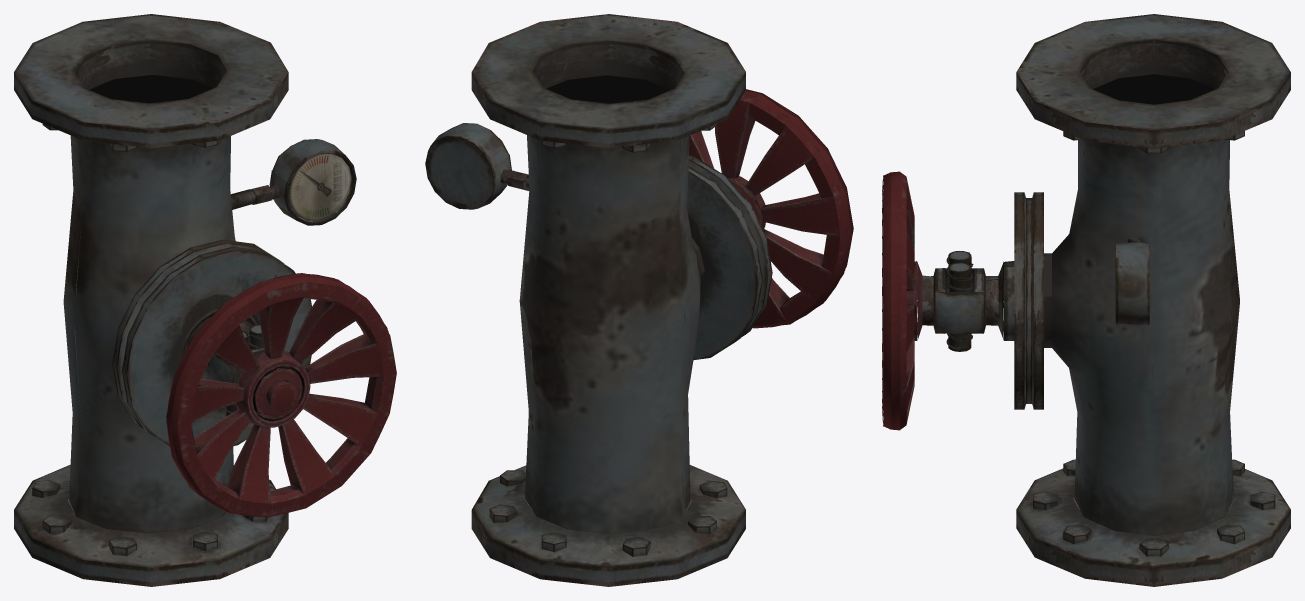
Rendered from pipe08.gltf.
3 renders of one model, left to right at view 1: azimuth 30°, elevation 25°; view 2: azimuth 150°, elevation 25°; view 3: azimuth 270°, elevation 25°, orthographic.
Visible parts, largest first — view 1: pipe08; view 2: pipe08; view 3: pipe08.
Boxes of the visible parts, left/top/right/bottom form: pipe08: left=14, top=14, right=396, bottom=586; pipe08: left=425, top=14, right=853, bottom=586; pipe08: left=882, top=14, right=1290, bottom=586.
Size of the model in its own units: 0.2662 by 0.3788 by 0.3073.
Materials: 1 (1 with a texture image).
